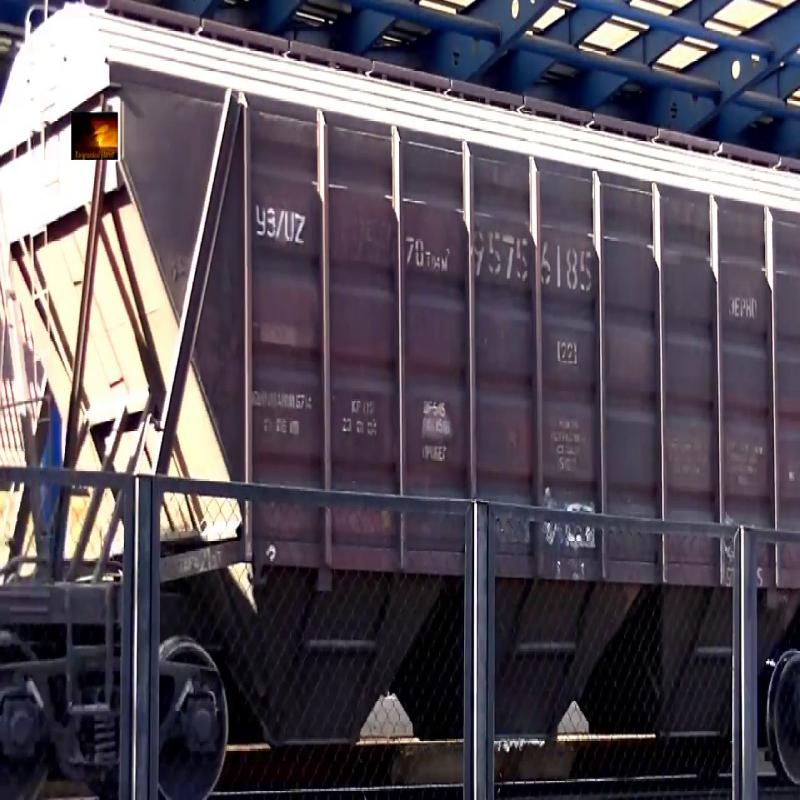train: (25, 1, 800, 779)
